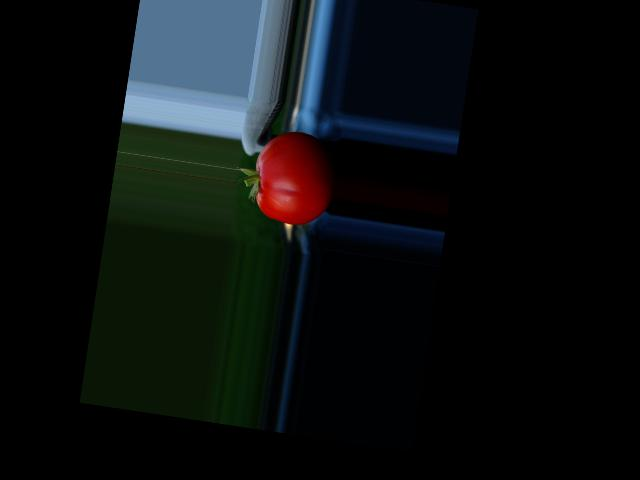tomato: (248, 126, 341, 230)
